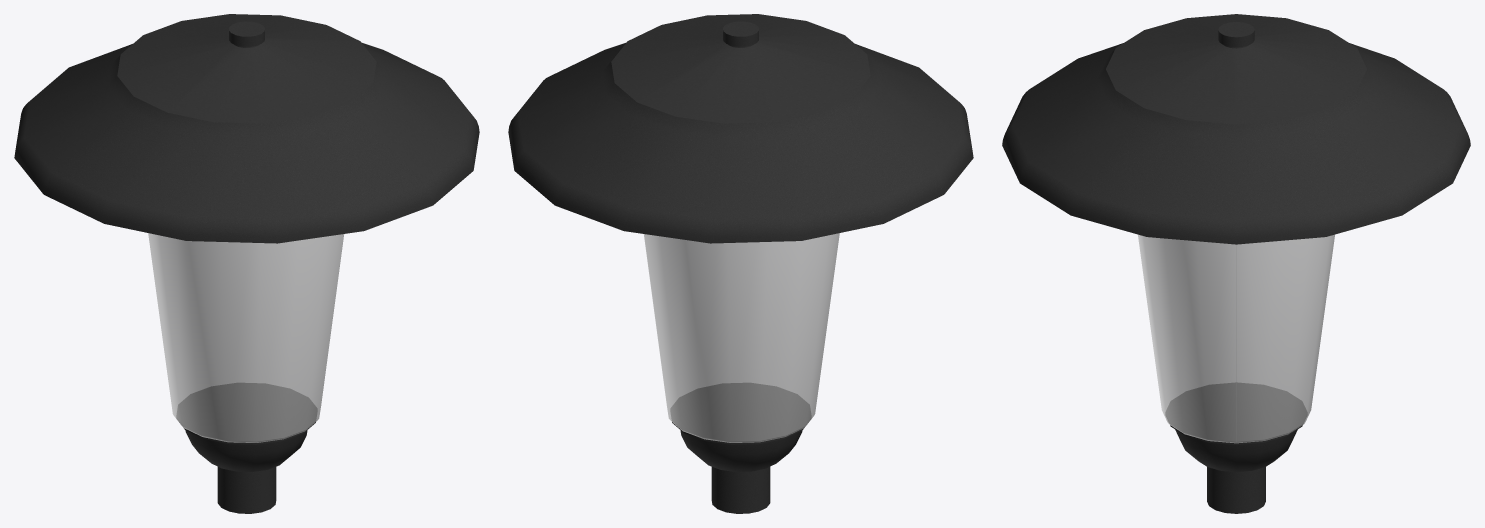
3 renders of one model, left to right at view 1: azimuth 30°, elevation 25°; view 2: azimuth 150°, elevation 25°; view 3: azimuth 270°, elevation 25°, orthographic.
Visible parts, largest first — view 1: Vulkan 5460, Vulkan 5460 Glas; view 2: Vulkan 5460, Vulkan 5460 Glas; view 3: Vulkan 5460, Vulkan 5460 Glas.
Boxes of the visible parts, left/top/right/bottom form: Vulkan 5460: left=14, top=14, right=479, bottom=513; Vulkan 5460 Glas: left=148, top=233, right=344, bottom=442; Vulkan 5460: left=508, top=14, right=973, bottom=513; Vulkan 5460 Glas: left=643, top=233, right=839, bottom=442; Vulkan 5460: left=1002, top=14, right=1470, bottom=513; Vulkan 5460 Glas: left=1138, top=234, right=1334, bottom=443.
Size of the model in its own units: 0.7805 by 0.867 by 0.7805.
Materials: 3 (2 with a texture image).
